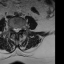CCS_stenosis: (15, 25, 17, 36)
LFS_normal: (19, 24, 22, 32)
LLS_normal: (17, 25, 19, 33)
RFS_normal: (11, 24, 13, 33)
RLS_normal: (13, 25, 15, 32)
